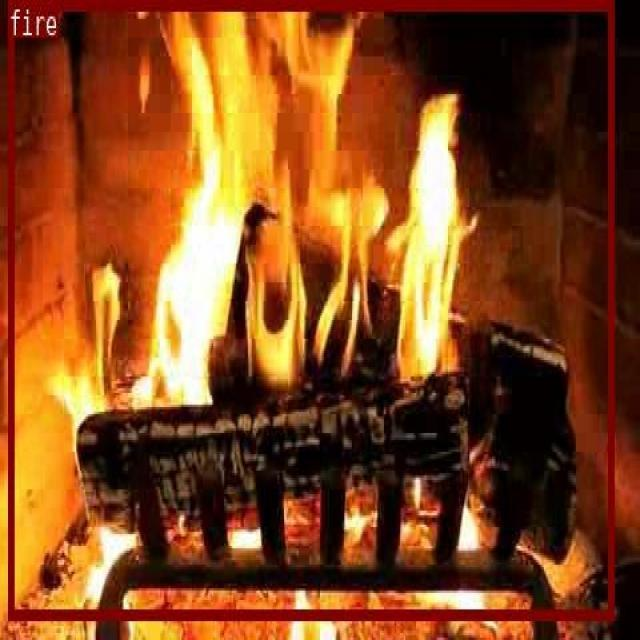fire: (7, 0, 613, 619)
